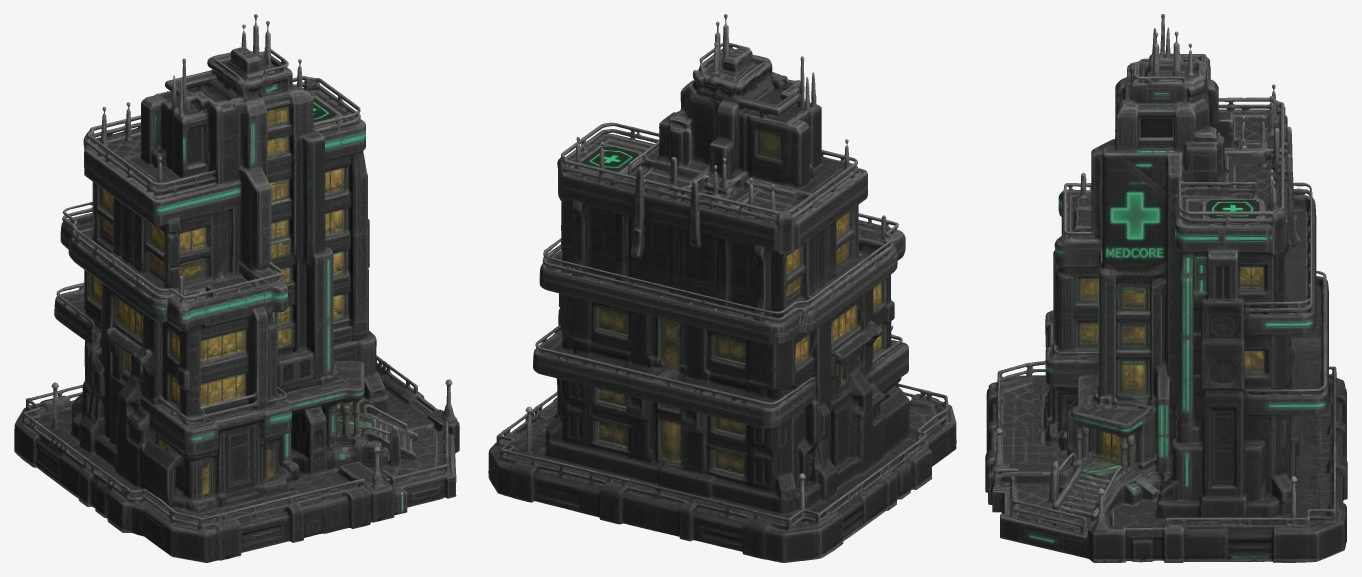
Rendered from Meshy_AI_Neon_Medcore_Tower_1011153815_texture.glb.
The picture shows the model from 3 angles, left to right: view 1: azimuth 30°, elevation 25°; view 2: azimuth 150°, elevation 25°; view 3: azimuth 270°, elevation 25°; orthographic projection.
Bounding box in the file's own units: 1.5 × 1.9 × 1.38.
Materials: 1 (1 with a texture image).
